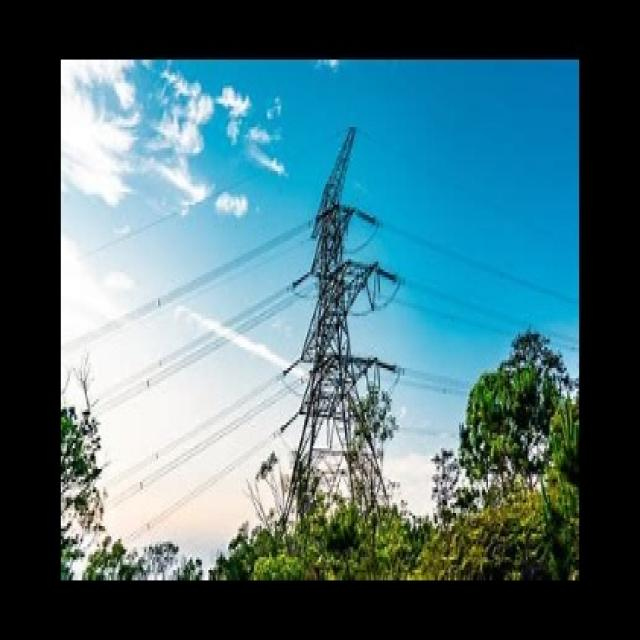utility poles: (273, 336, 414, 561), (460, 288, 568, 541)
